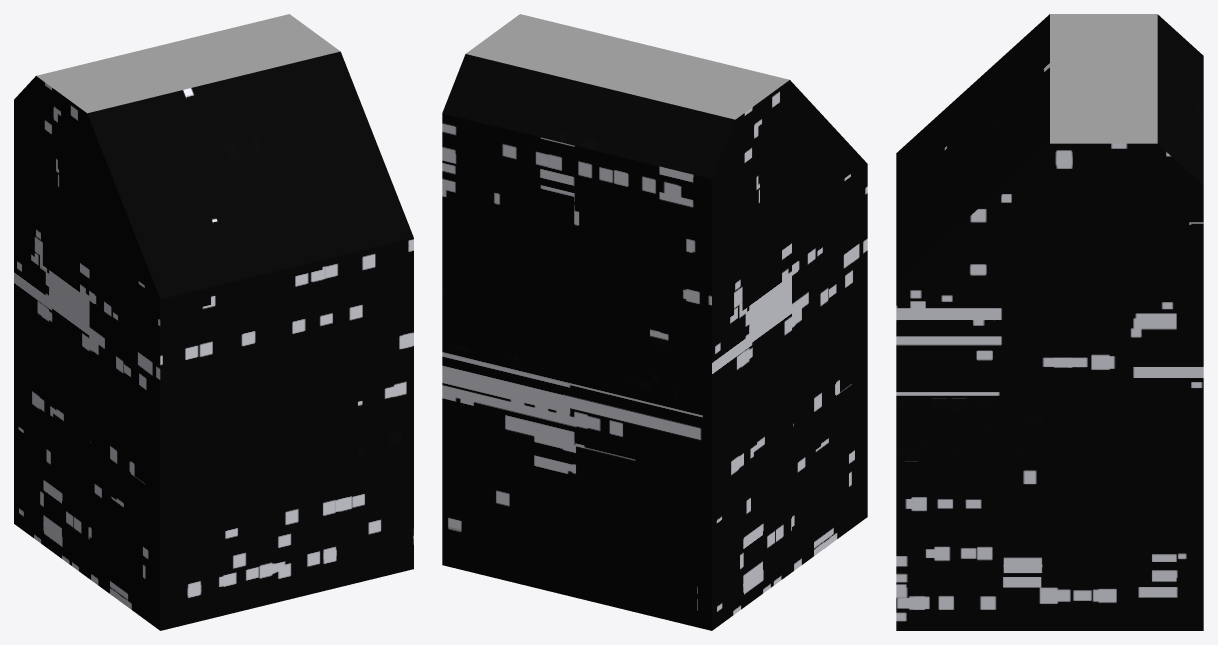
Rendered from Building08.fbx.
3 renders of one model, left to right at view 1: azimuth 30°, elevation 25°; view 2: azimuth 150°, elevation 25°; view 3: azimuth 270°, elevation 25°, orthographic. The views are drawn at different scales.
Visible parts, largest first — view 1: Building08; view 2: Building08; view 3: Building08.
Part boxes in pixels (bbox=[...]): Building08: bbox=[14, 14, 413, 630]; Building08: bbox=[442, 14, 867, 630]; Building08: bbox=[896, 14, 1203, 630].
Bounding box in the file's own units: 0.3639 × 0.6368 × 0.3639.
Materials: 2 (1 with a texture image).
